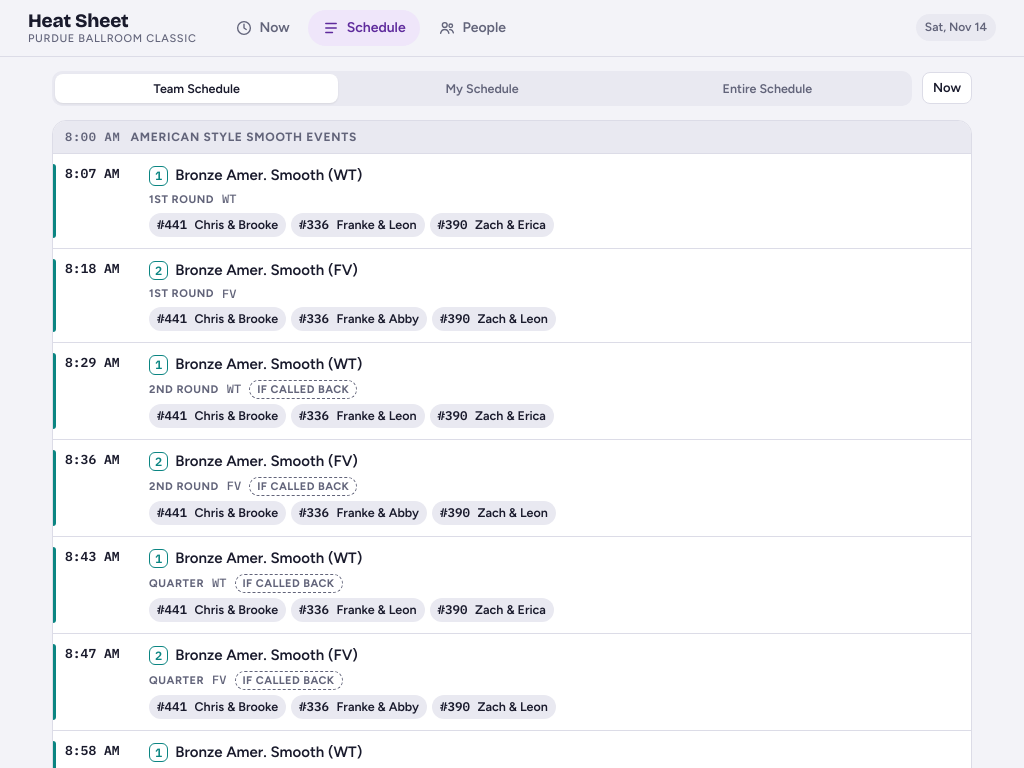
Scenario: Schedule tab › shows the team, your own, or the entire schedule
This screenshot has width=1024, height=768.
What coordinates should you click on to do the following:
click the button "My Schedule"
I would click on:
 (482, 88)
Its box is [340,74,624,103].
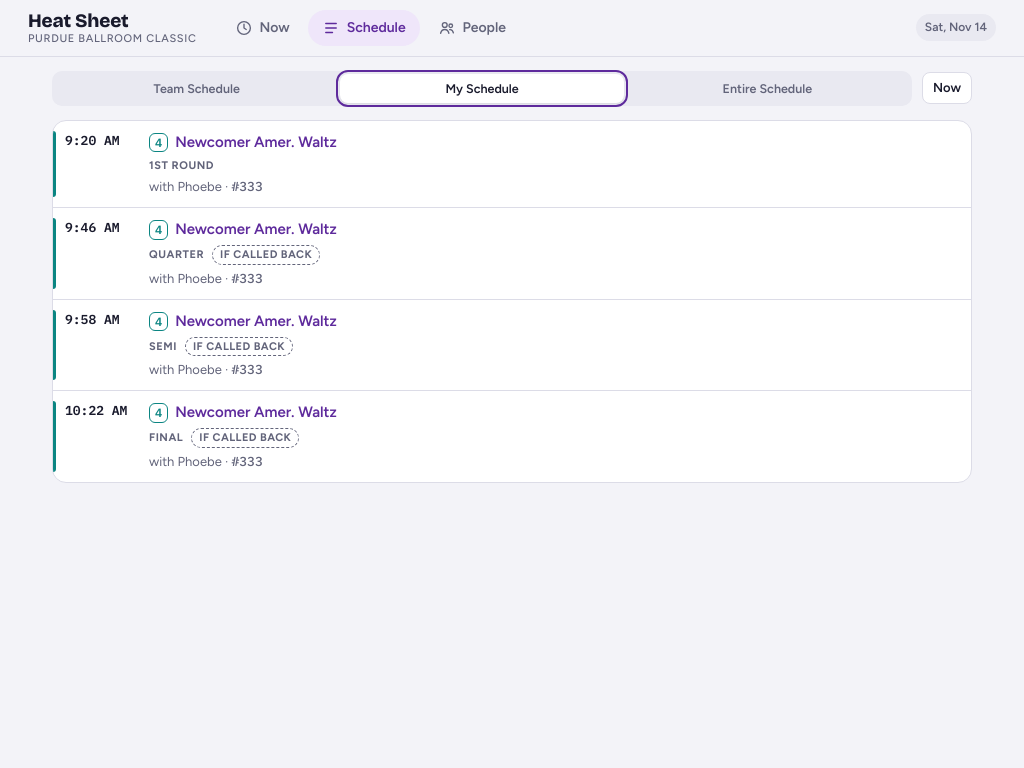
What coordinates should you click on to do the following:
click the button "Entire Schedule"
I would click on:
 (767, 88)
Its box is [626,74,909,103].
(page scrolled)
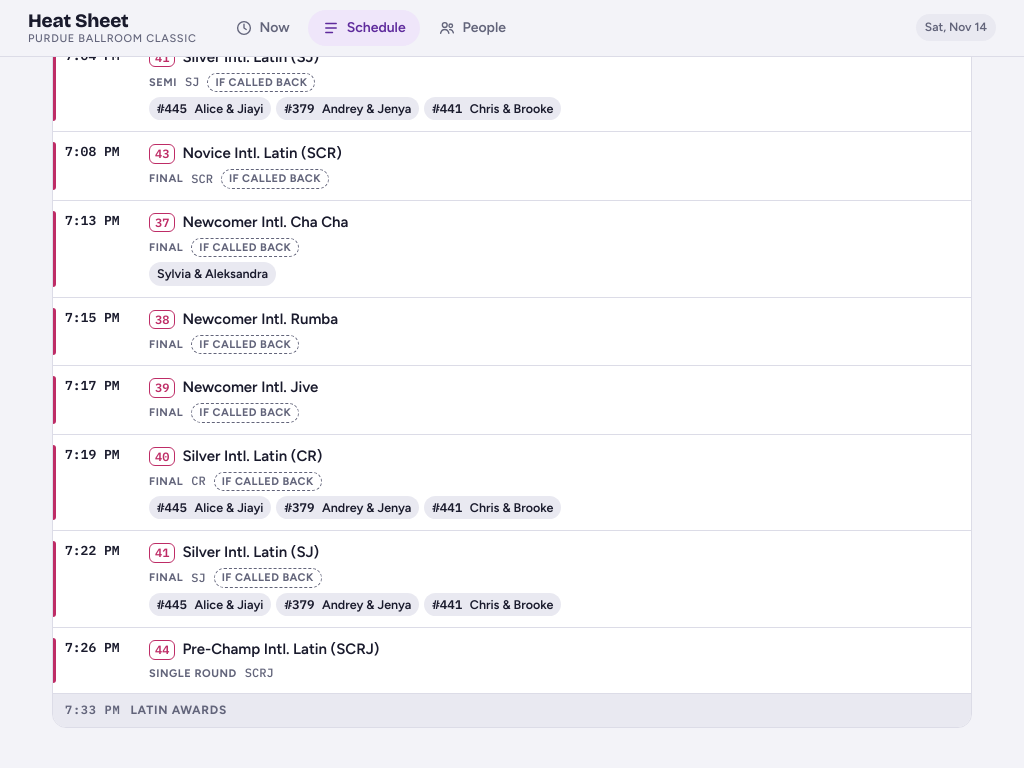
Now the text "Latin Awards" is shown, box [130,702,227,719]
